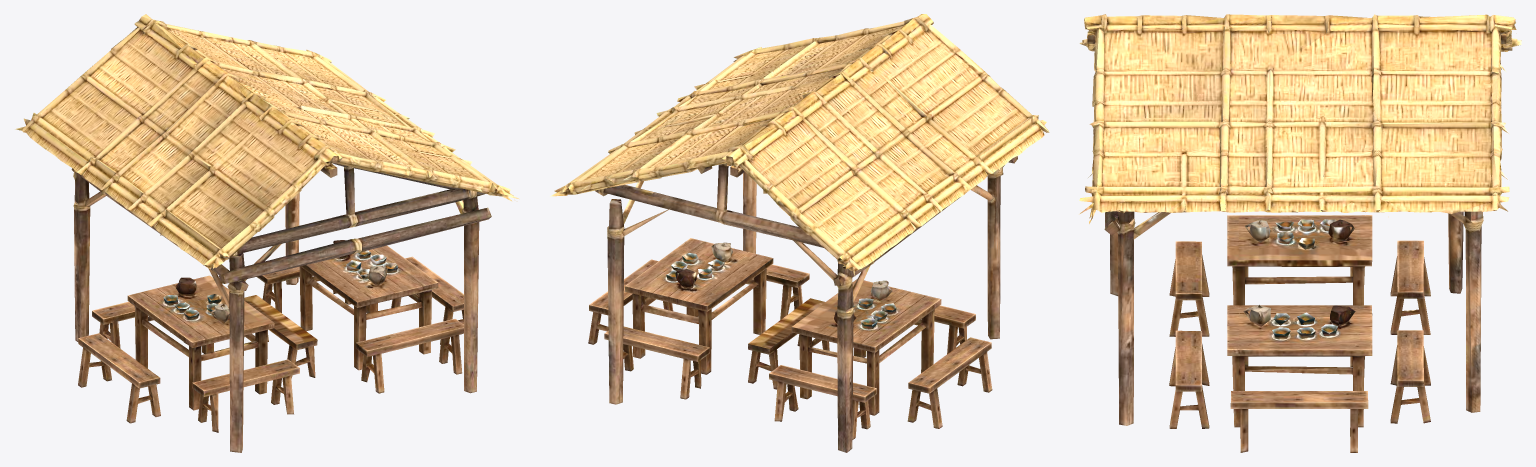
File: qm_teashed_lo.glb
The picture shows the model from 3 angles, left to right: view 1: azimuth 30°, elevation 25°; view 2: azimuth 150°, elevation 25°; view 3: azimuth 270°, elevation 25°; orthographic projection. The views are drawn at different scales.
Parts seen in each view (by area): view 1: qm_teashed; view 2: qm_teashed; view 3: qm_teashed.
Part boxes in pixels (x1,y1,x2,y2): qm_teashed: (15, 14, 519, 452); qm_teashed: (550, 14, 1049, 452); qm_teashed: (1079, 14, 1521, 452).
Size of the model in its own units: 4.37 by 3.51 by 4.34.
1 material, 1 textured.
